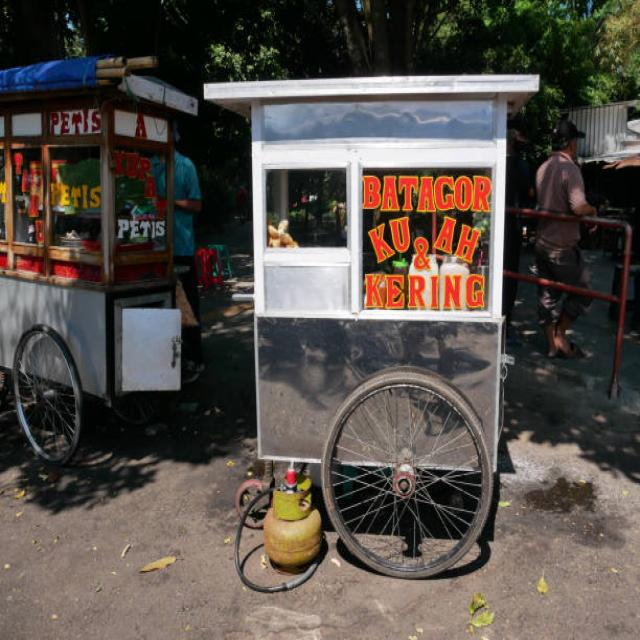Emperan: (185, 66, 545, 604), (0, 55, 199, 474)
